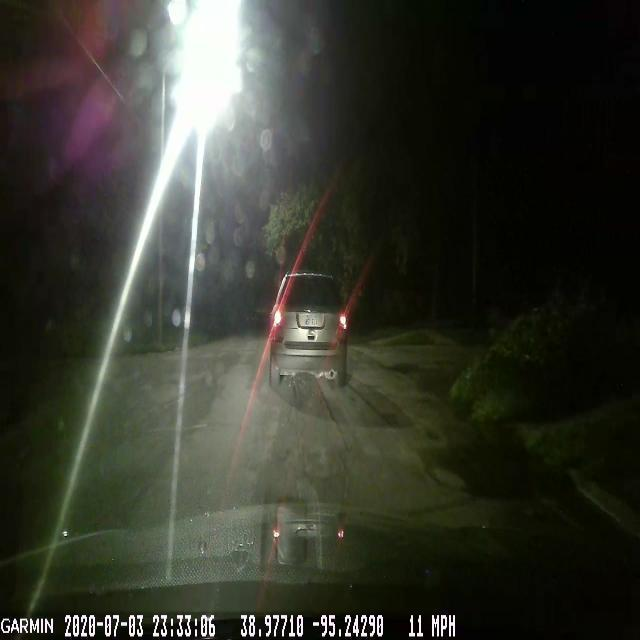pothole: (425, 420, 580, 510)
